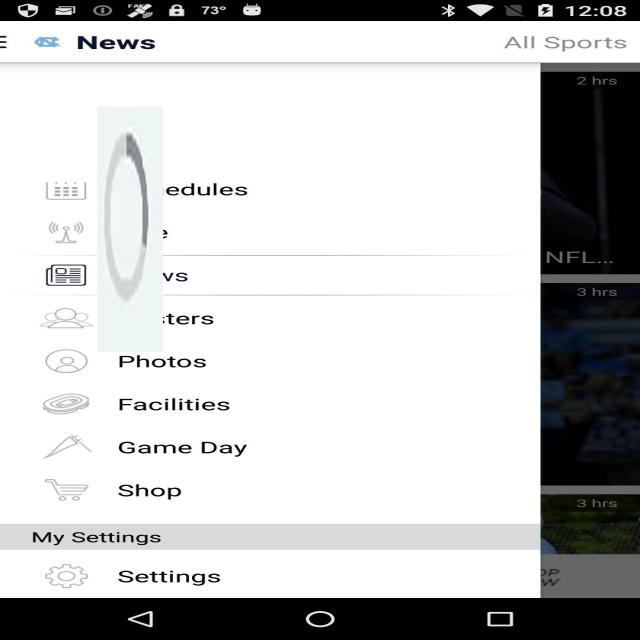misdirection: (97, 106, 163, 352)
